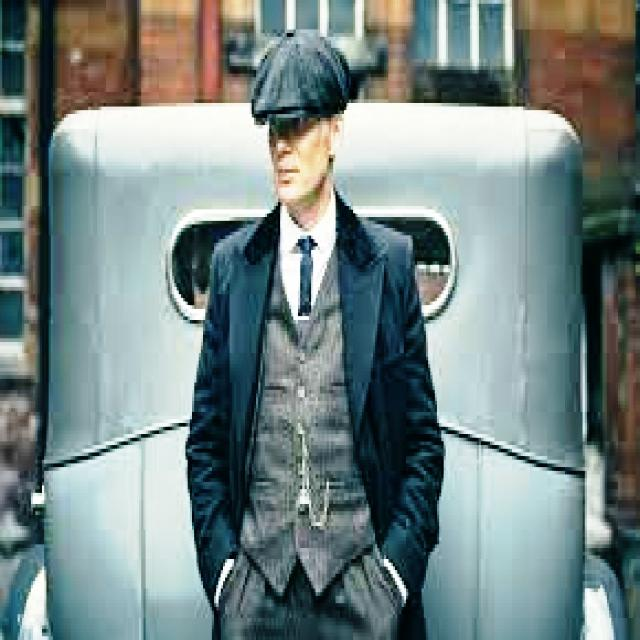TOPI: (242, 11, 358, 129)
